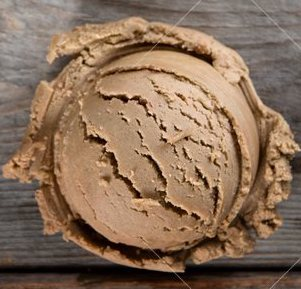ice-cream: (2, 20, 297, 273)
